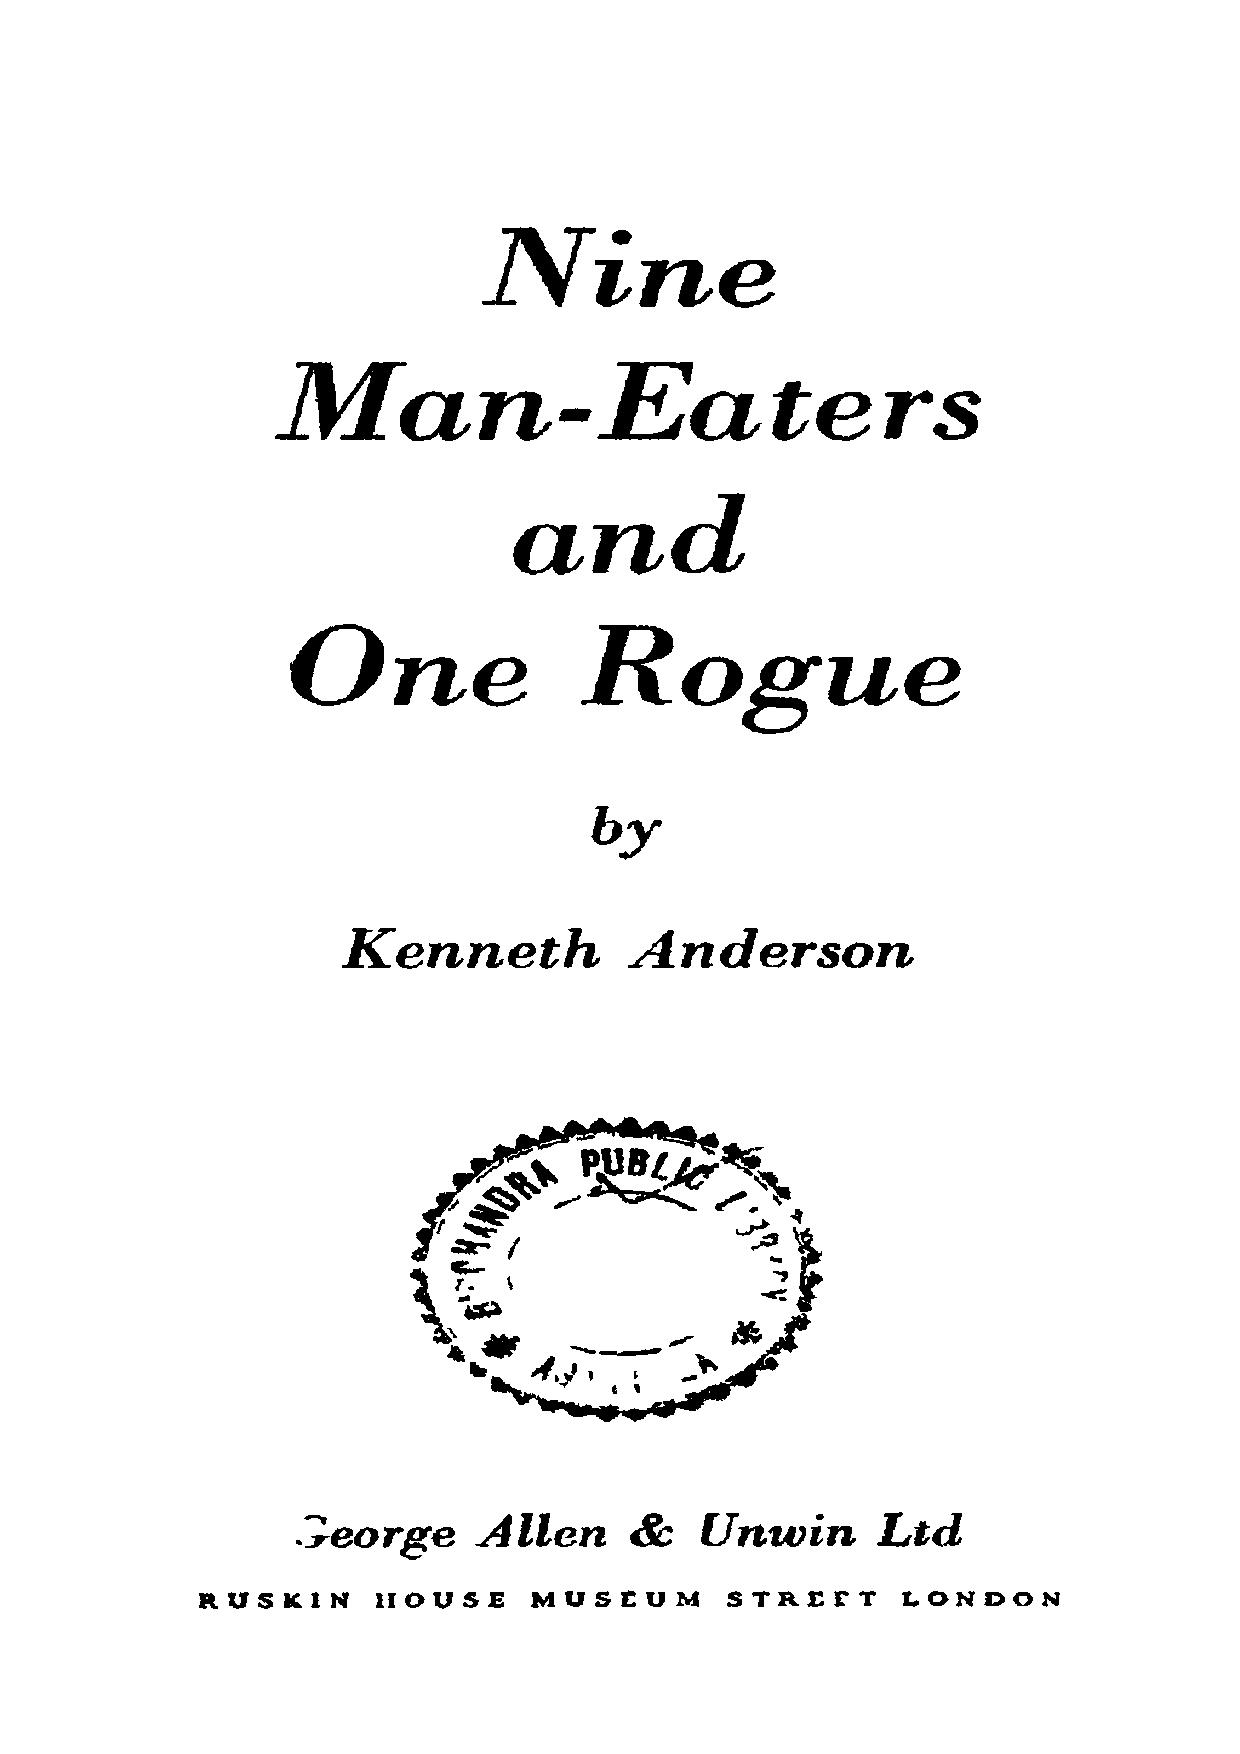author: (331, 804, 921, 977)
title: (260, 221, 986, 741)
